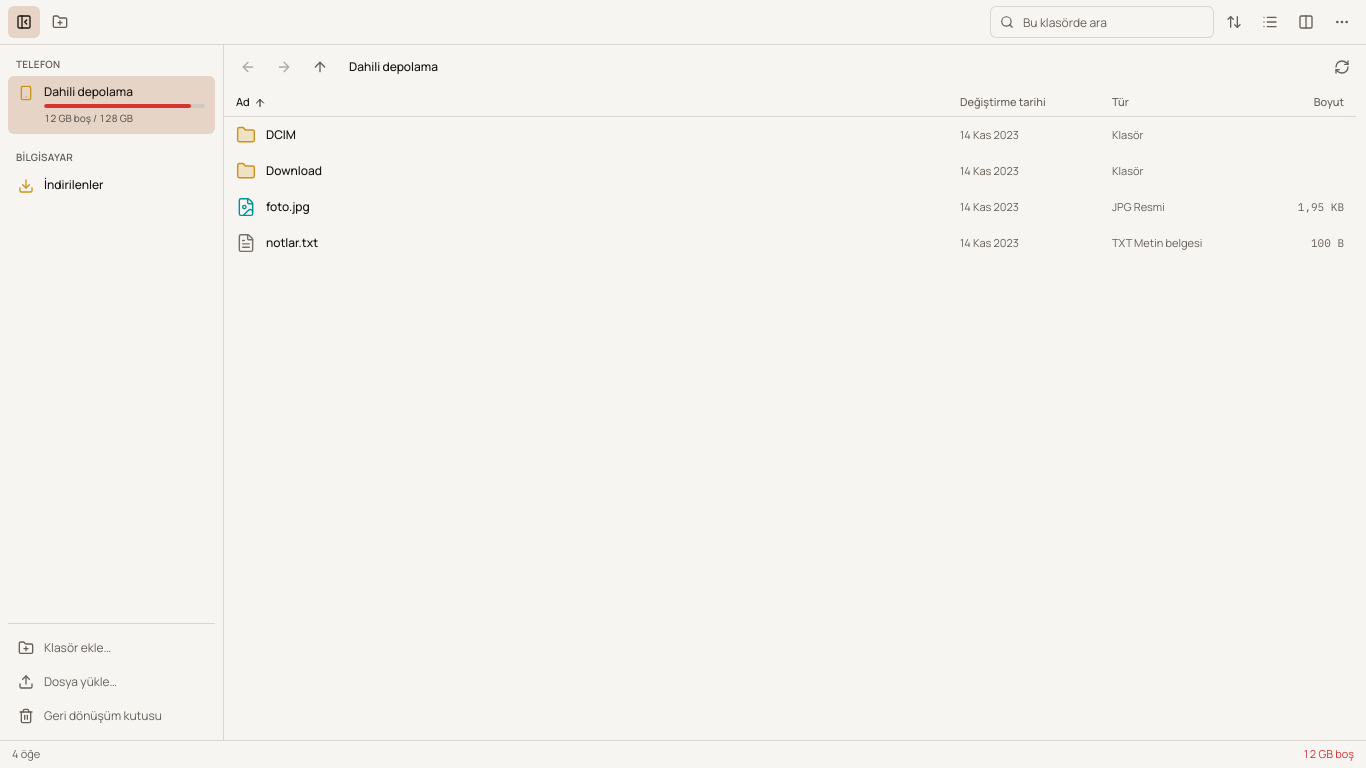
Scenario: düzen kipleri › geniş: kenar çubuğu + sütun başlığı; çift bölme iki klasör gösterir
Expected: the navigation bar named "Yerler" is shown, [0,45,224,740]
Expected: the column heading "Tür" is shown, [1112,94,1256,111]
What coordinates should you click on to do the following:
click the button named "İki bölme"
I would click on:
 (1306, 22)
Its box is [1290,6,1322,38].
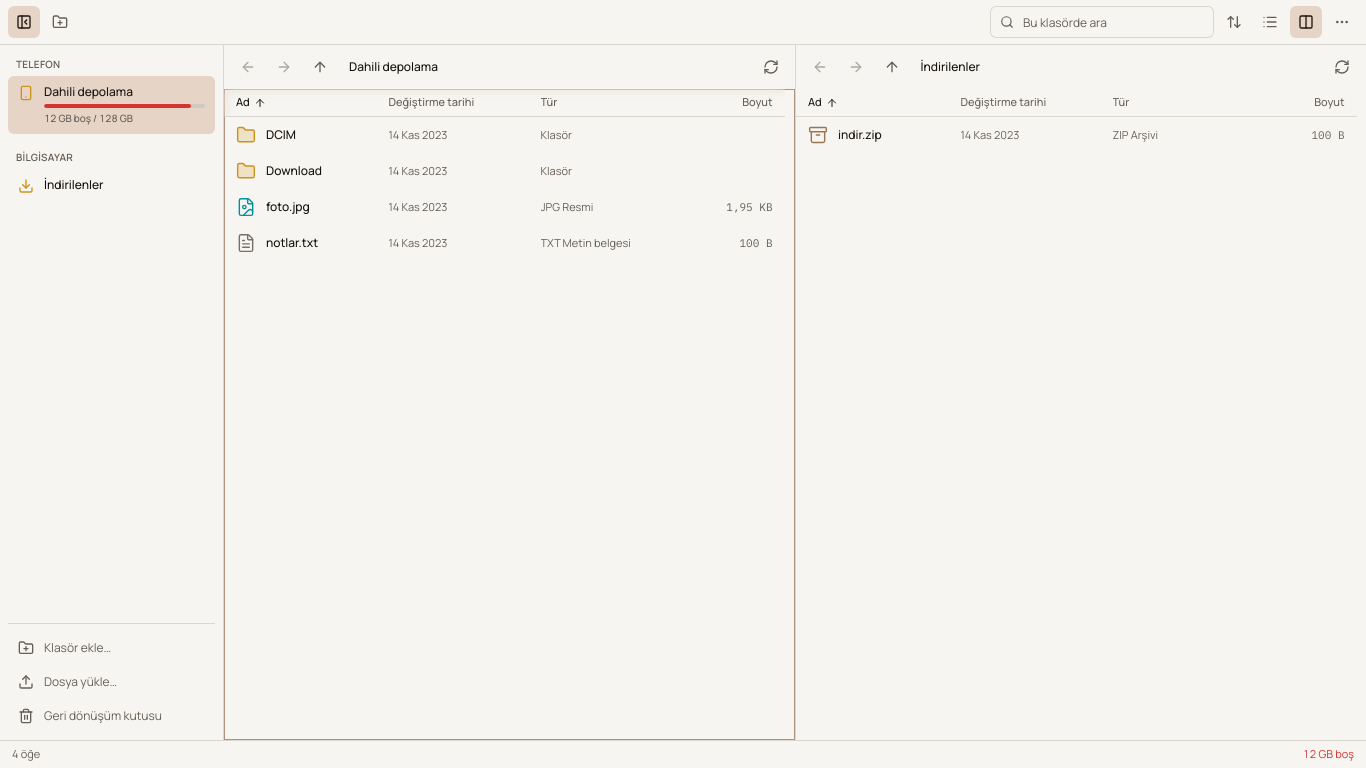
Expected: the text "DCIM" is shown, [266,127,296,143]
Expected: the number of tables named "Dosyalar" is 2, [224,89,784,253]; [796,89,1356,145]
Expected: the text "indir.zip" is shown, [838,127,881,143]
